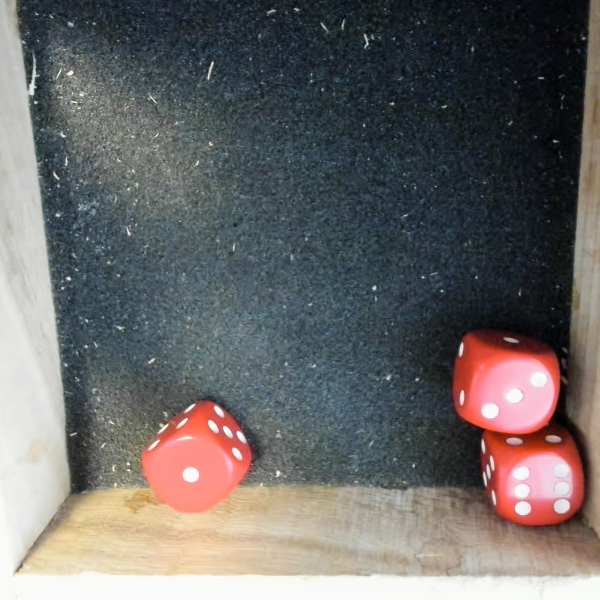red_die_pip1: (124, 384, 276, 534)
red_die_pip3: (443, 316, 568, 442)
red_die_pip6: (479, 424, 584, 524)
